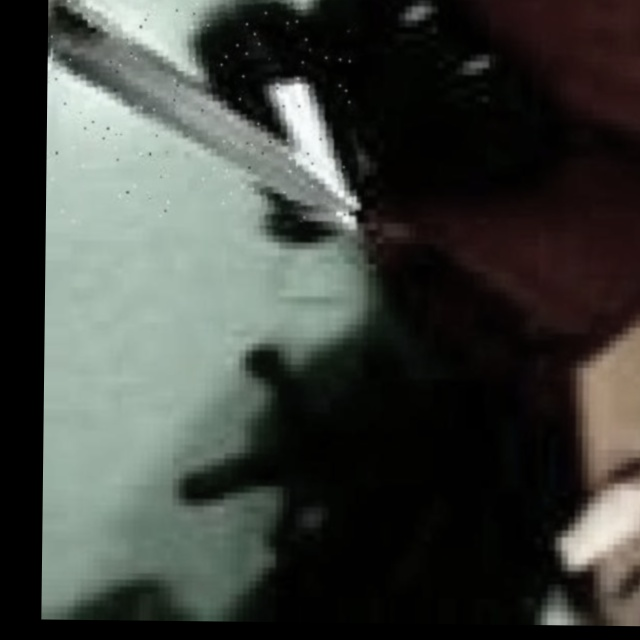Sharp-Object: (48, 0, 359, 230)
